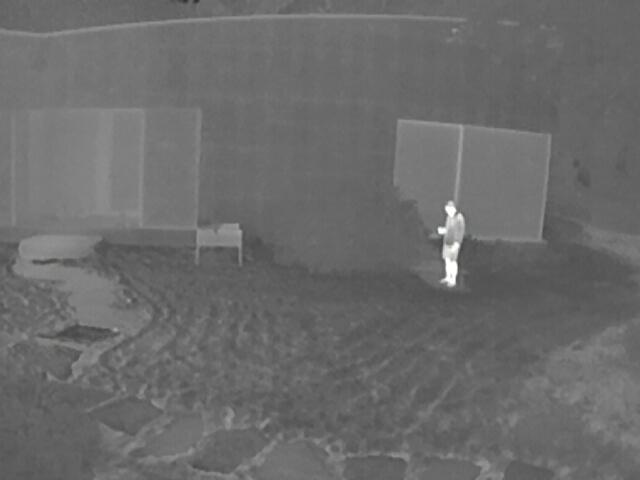person: (440, 199, 464, 291)
